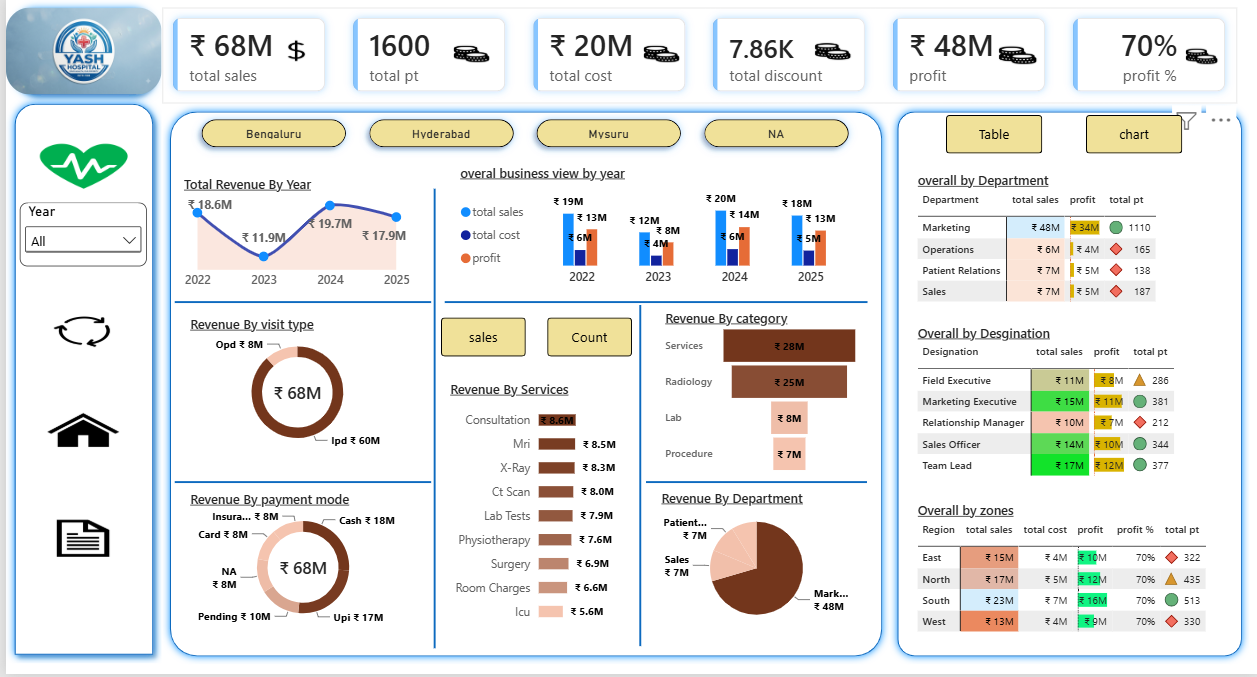

What the dashboard file says about the page in this screenshot:
{"tool":"powerbi","page":{"name":"Hosp_sales","canvas":[1300,700],"ordinal":0},"visuals":[{"type":"shape","box":[0,98.8,161.9,590.5],"z":0},{"type":"shape","box":[0,0,161.9,107.2],"z":1000},{"type":"shape","box":[161.9,107.1,756,582.1],"z":2000},{"type":"shape","box":[917.9,107.1,373.8,582.1],"z":3000},{"type":"lineChart","title":"Total Revenue By Year","fields":{"Category":["calendar_table.Date.Variation.Date Hierarchy.Year","calendar_table.Date.Variation.Date Hierarchy.Month","calendar_table.Date.Variation.Date Hierarchy.Day"],"Y":["Hosp_sales.total sales"]},"box":[169,167.9,266.7,152.4],"z":4000},{"type":"cardVisual","fields":{"Data":["Hosp_sales.total sales","Hosp_sales.total patients","Hosp_sales.total cost","Sum(Hosp_sales.Discount_Pct)","Hosp_sales.profit","Hosp_sales.profit %"]},"box":[161.9,8.3,1117.9,98.8],"z":5000},{"type":"donutChart","title":"Revenue By visit type","fields":{"Category":["Hosp_sales.Visit_Type"],"Y":["Hosp_sales.total sales"]},"box":[175,313.1,254.8,172.6],"z":6000},{"type":"shape","box":[175,295.2,266.7,38.1],"z":7000},{"type":"barChart","title":"Revenue By Services","fields":{"Category":["Hosp_sales.Service"],"Y":["Hosp_sales.total sales"]},"box":[445.2,381,204.8,286.9],"z":8000},{"type":"donutChart","title":"Revenue By payment mode","fields":{"Category":["Hosp_sales.Payment_Mode"],"Y":["Hosp_sales.total sales"]},"box":[175,495.2,266.7,172.6],"z":9000},{"type":"clusteredColumnChart","title":"overal business view by year","fields":{"Category":["calendar_table.year"],"Y":["Hosp_sales.total sales","Hosp_sales.total cost","Hosp_sales.profit"]},"box":[456,156,447.6,160.7],"z":10000},{"type":"shape","box":[175,482.1,266.7,38.1],"z":11000},{"type":"shape","box":[429.8,196.4,31,477.4],"z":12000},{"type":"shape","box":[635.7,316.7,45.2,354.8],"z":13000},{"type":"funnel","title":"Revenue By category","fields":{"Category":["Hosp_sales.Category"],"Y":["Hosp_sales.total sales"]},"box":[669,306,234.5,201.2],"z":14000},{"type":"pivotTable","title":"Overall by Desgination","fields":{"Rows":["Marketing_Employees.Designation"],"Values":["Hosp_sales.total sales","Hosp_sales.profit","Hosp_sales.total patients"]},"box":[931,322,347.6,197.6],"z":15000},{"type":"pieChart","title":"Revenue By Department","fields":{"Category":["Marketing_Employees.Department"],"Y":["Hosp_sales.total sales"]},"box":[665.5,494,229.8,177.4],"z":16000},{"type":"shape","box":[665.5,482.1,229.8,38.1],"z":17000},{"type":"shape","box":[456,295.2,439.3,38.1],"z":18000},{"type":"pivotTable","title":"overall by Department","fields":{"Rows":["Marketing_Employees.Department"],"Values":["Hosp_sales.total sales","Hosp_sales.profit","Hosp_sales.total patients"]},"box":[931,164,368,169],"z":19000},{"type":"pivotTable","title":"Overall by zones","fields":{"Rows":["Marketing_Employees.Region"],"Values":["Hosp_sales.total sales","Hosp_sales.total cost","Hosp_sales.profit","Hosp_sales.profit %","Hosp_sales.total patients"]},"box":[931,507,347.6,178.6],"z":20000},{"type":"advancedSlicerVisual","fields":{"Values":["Hosp_sales.Branch"]},"box":[191.7,113.1,697.6,51.2],"z":21000},{"type":"slicer","fields":{"Values":["calendar_table.year"]},"box":[14.3,210.7,132.1,66.7],"z":22000},{"type":"actionButton","box":[977,119,100,40],"z":24000},{"type":"actionButton","box":[1121.4,119,100,40],"z":25000},{"type":"actionButton","box":[452.4,329.8,88.1,40.5],"z":27000},{"type":"actionButton","box":[561.9,329.8,88.1,40.5],"z":28000},{"type":"image","box":[0,8.3,161.9,90.5],"z":29000},{"type":"image","box":[279.8,26.2,44,53.6],"z":30000},{"type":"image","box":[658.3,28.6,44,51.2],"z":31000},{"type":"image","box":[1027.4,29.8,46.4,51.2],"z":32000},{"type":"image","box":[1221.4,31,39.3,51.2],"z":33000},{"type":"image","box":[460.7,28.6,44,51.2],"z":34000},{"type":"image","box":[835.7,26.2,44,51.2],"z":35000},{"type":"image","box":[14.3,107.1,132.1,129.8],"z":36000},{"type":"image","box":[35.7,408.3,86.9,77.4],"z":37000},{"type":"image","box":[35.7,520.2,86.9,77.4],"z":38000},{"type":"image","box":[35.7,304.8,86.9,77.4],"z":39000}]}

Visuals, with their boxes in screenshot pixels (x1, y1, x2, y2), scaled from the page's 1300x700 canvas onto the 1257x677 screenshot:
shape: bbox=[0, 96, 157, 667]
shape: bbox=[0, 0, 157, 104]
shape: bbox=[157, 104, 888, 667]
shape: bbox=[888, 104, 1249, 667]
"Total Revenue By Year" lineChart: bbox=[163, 162, 421, 310]
cardVisual - Hosp_sales.total sales x Hosp_sales.total patients: bbox=[157, 8, 1237, 104]
"Revenue By visit type" donutChart: bbox=[169, 303, 416, 470]
shape: bbox=[169, 286, 427, 322]
"Revenue By Services" barChart: bbox=[430, 368, 628, 646]
"Revenue By payment mode" donutChart: bbox=[169, 479, 427, 646]
"overal business view by year" clusteredColumnChart: bbox=[441, 151, 874, 306]
shape: bbox=[169, 466, 427, 503]
shape: bbox=[416, 190, 446, 652]
shape: bbox=[615, 306, 658, 649]
"Revenue By category" funnel: bbox=[647, 296, 874, 491]
"Overall by Desgination" pivotTable: bbox=[900, 311, 1236, 503]
"Revenue By Department" pieChart: bbox=[643, 478, 866, 649]
shape: bbox=[643, 466, 866, 503]
shape: bbox=[441, 286, 866, 322]
"overall by Department" pivotTable: bbox=[900, 159, 1256, 322]
"Overall by zones" pivotTable: bbox=[900, 490, 1236, 663]
advancedSlicerVisual - Hosp_sales.Branch: bbox=[185, 109, 860, 159]
slicer - calendar_table.year: bbox=[14, 204, 142, 268]
actionButton: bbox=[945, 115, 1041, 154]
actionButton: bbox=[1084, 115, 1181, 154]
actionButton: bbox=[437, 319, 523, 358]
actionButton: bbox=[543, 319, 628, 358]
image: bbox=[0, 8, 157, 96]
image: bbox=[271, 25, 313, 77]
image: bbox=[637, 28, 679, 77]
image: bbox=[993, 29, 1038, 78]
image: bbox=[1181, 30, 1219, 79]
image: bbox=[445, 28, 488, 77]
image: bbox=[808, 25, 851, 75]
image: bbox=[14, 104, 142, 229]
image: bbox=[35, 395, 119, 470]
image: bbox=[35, 503, 119, 578]
image: bbox=[35, 295, 119, 370]
